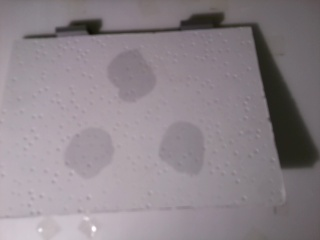Water_detected: (77, 130, 115, 168), (172, 128, 210, 164), (113, 57, 145, 87)
